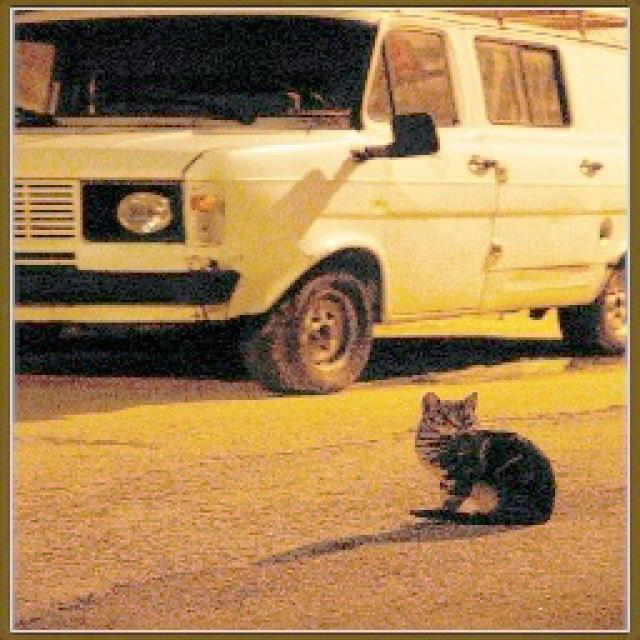cat: (401, 392, 563, 532)
